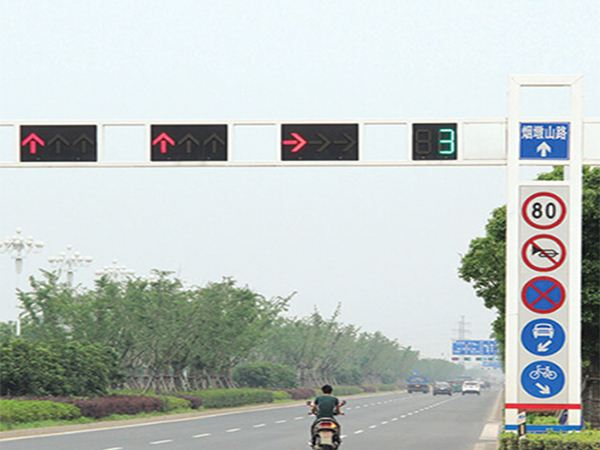red: (16, 120, 101, 168), (147, 118, 232, 166), (274, 118, 361, 163)
